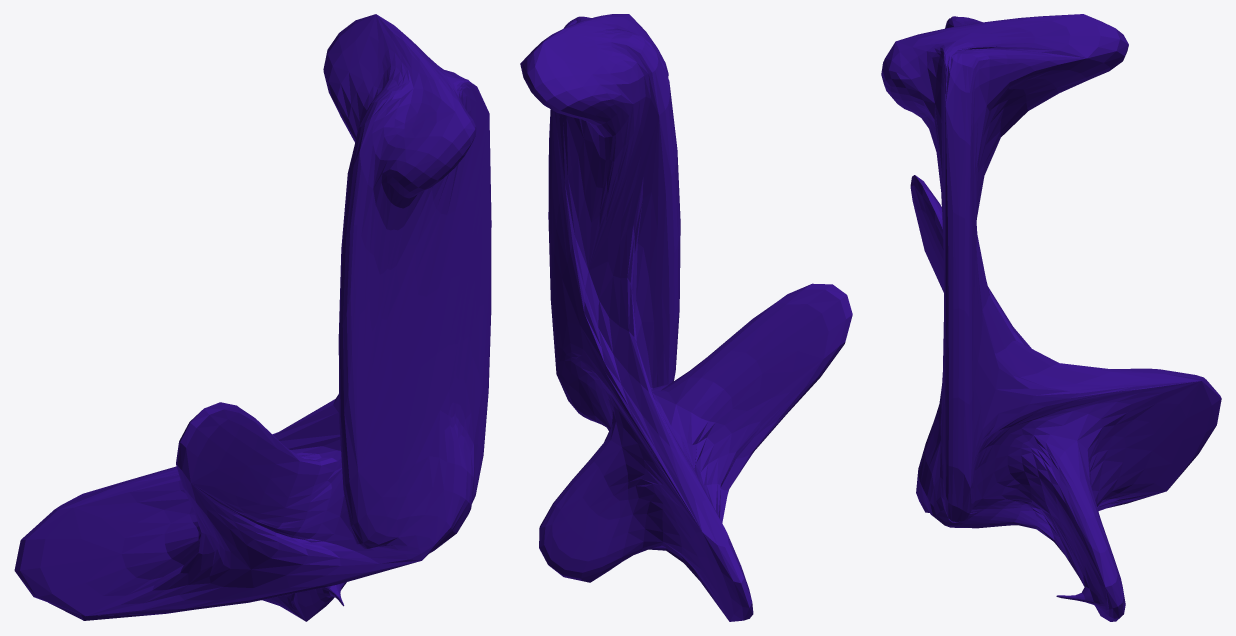
3 renders of one model, left to right at view 1: azimuth 30°, elevation 25°; view 2: azimuth 150°, elevation 25°; view 3: azimuth 270°, elevation 25°, orthographic. The views are drawn at different scales.
Visible parts, largest first — view 1: 984_Cube.3969; view 2: 984_Cube.3969; view 3: 984_Cube.3969.
Boxes of the visible parts, bbox=[...] form: 984_Cube.3969: bbox=[14, 14, 491, 621]; 984_Cube.3969: bbox=[520, 14, 852, 621]; 984_Cube.3969: bbox=[881, 14, 1221, 621].
Bounding box in the file's own units: 9.75 × 15.89 × 7.74.
